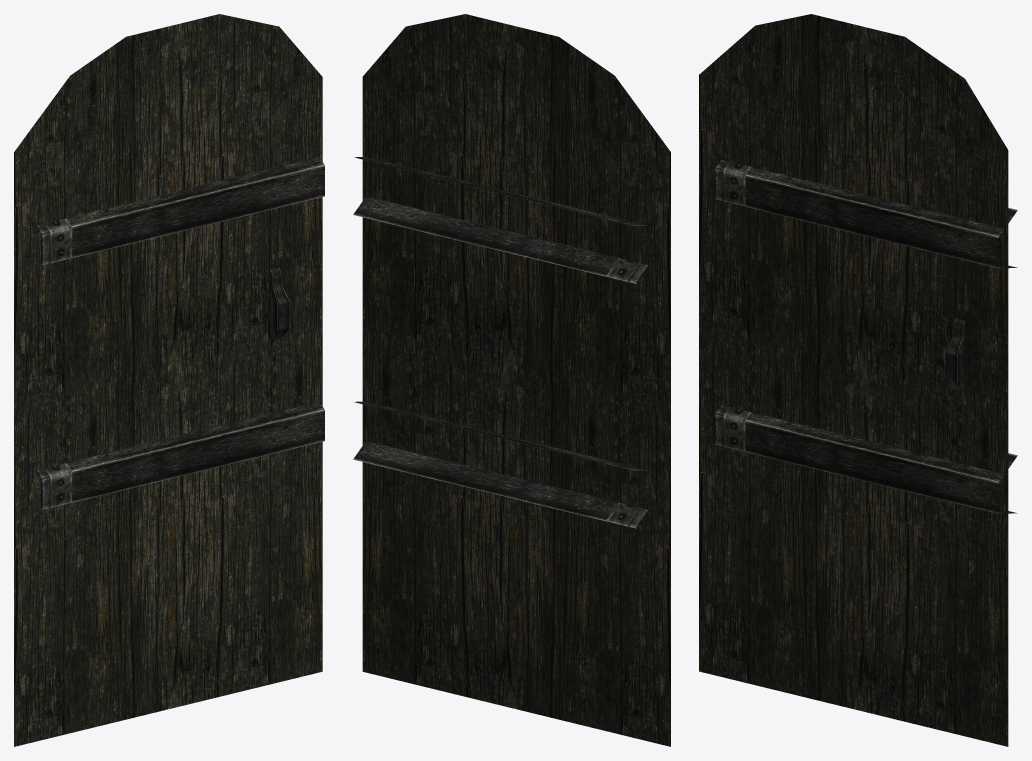
File: d_ex_nord_door_02.obj
3 renders of one model, left to right at view 1: azimuth 30°, elevation 25°; view 2: azimuth 150°, elevation 25°; view 3: azimuth 330°, elevation 25°, orthographic.
Parts seen in each view (by area): view 1: nifid_1-matrix_Tri_Ex_nord_door_02_0-lib, nifid_6-matrix_Tri_Ex_nord_door_02_1-lib, nifid_11-matrix_Tri_Ex_nord_door_02_2-lib; view 2: nifid_1-matrix_Tri_Ex_nord_door_02_0-lib, nifid_6-matrix_Tri_Ex_nord_door_02_1-lib, nifid_11-matrix_Tri_Ex_nord_door_02_2-lib; view 3: nifid_1-matrix_Tri_Ex_nord_door_02_0-lib, nifid_6-matrix_Tri_Ex_nord_door_02_1-lib, nifid_11-matrix_Tri_Ex_nord_door_02_2-lib.
Boxes of the visible parts, box(x1,y1,x2,y2) form: nifid_1-matrix_Tri_Ex_nord_door_02_0-lib: box(14, 14, 322, 746); nifid_6-matrix_Tri_Ex_nord_door_02_1-lib: box(66, 157, 324, 502); nifid_11-matrix_Tri_Ex_nord_door_02_2-lib: box(35, 218, 72, 510); nifid_1-matrix_Tri_Ex_nord_door_02_0-lib: box(362, 14, 670, 746); nifid_6-matrix_Tri_Ex_nord_door_02_1-lib: box(353, 157, 618, 520); nifid_11-matrix_Tri_Ex_nord_door_02_2-lib: box(605, 218, 649, 528); nifid_1-matrix_Tri_Ex_nord_door_02_0-lib: box(699, 14, 1008, 746); nifid_6-matrix_Tri_Ex_nord_door_02_1-lib: box(745, 167, 1017, 513); nifid_11-matrix_Tri_Ex_nord_door_02_2-lib: box(714, 159, 751, 451).
Bounding box in the file's own units: 2.91 × 6.15 × 0.3617.
